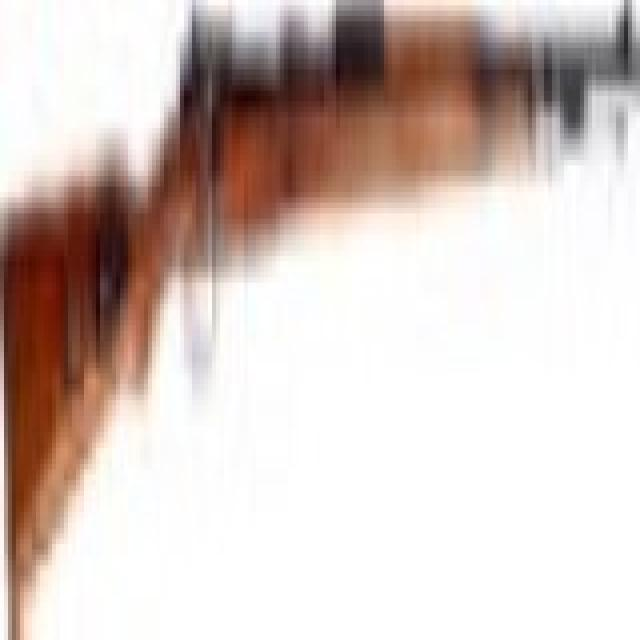Gun: (1, 0, 640, 572)
